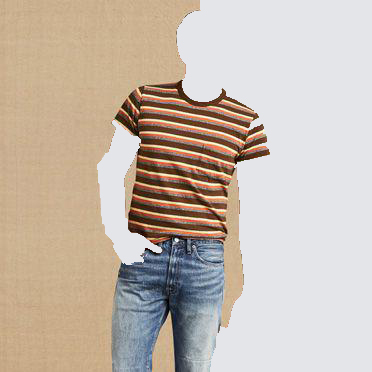teeshirt: (114, 77, 271, 257)
